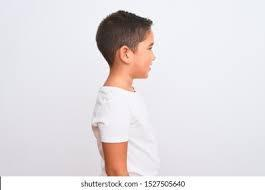Human: (75, 7, 177, 180)
